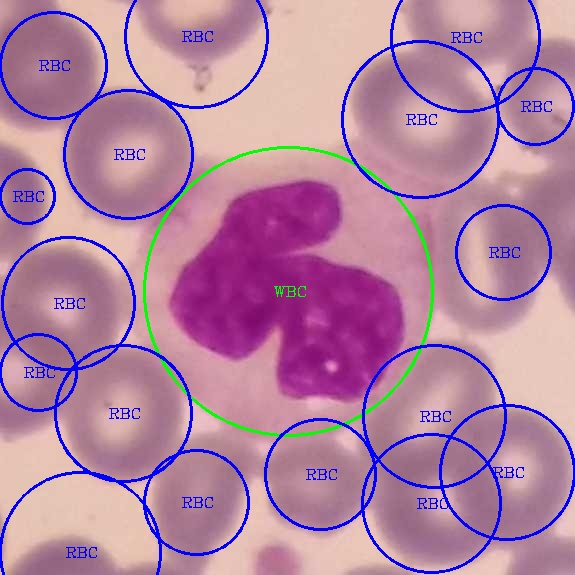RBC: (419, 168, 551, 339), (346, 47, 493, 184), (64, 333, 185, 487), (351, 346, 495, 469), (65, 80, 189, 220), (456, 402, 571, 549), (152, 430, 256, 567), (3, 246, 121, 363), (374, 441, 478, 567), (255, 437, 375, 541), (393, 0, 544, 79), (498, 31, 574, 184), (0, 19, 95, 136), (124, 0, 262, 71), (0, 306, 63, 439), (515, 160, 574, 302)
WBC: (121, 143, 452, 433)
